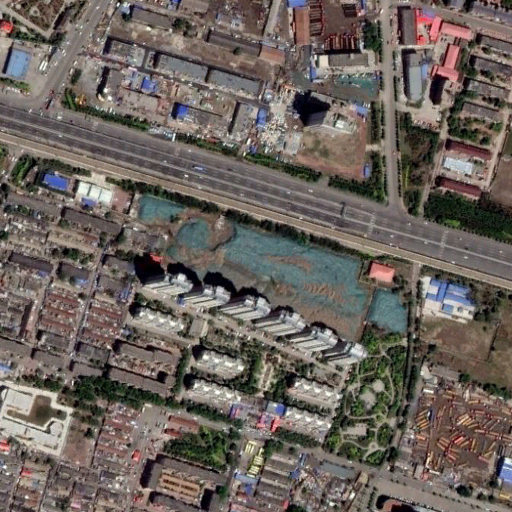cw: (128, 194, 409, 350)
